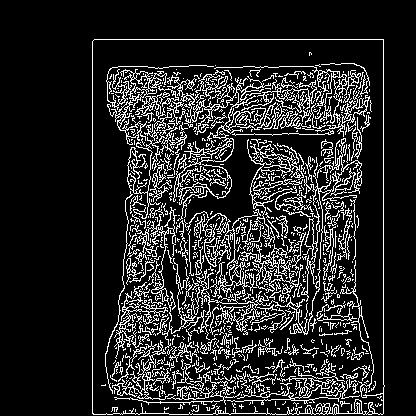buddha-sleeping: (120, 121, 250, 271)
